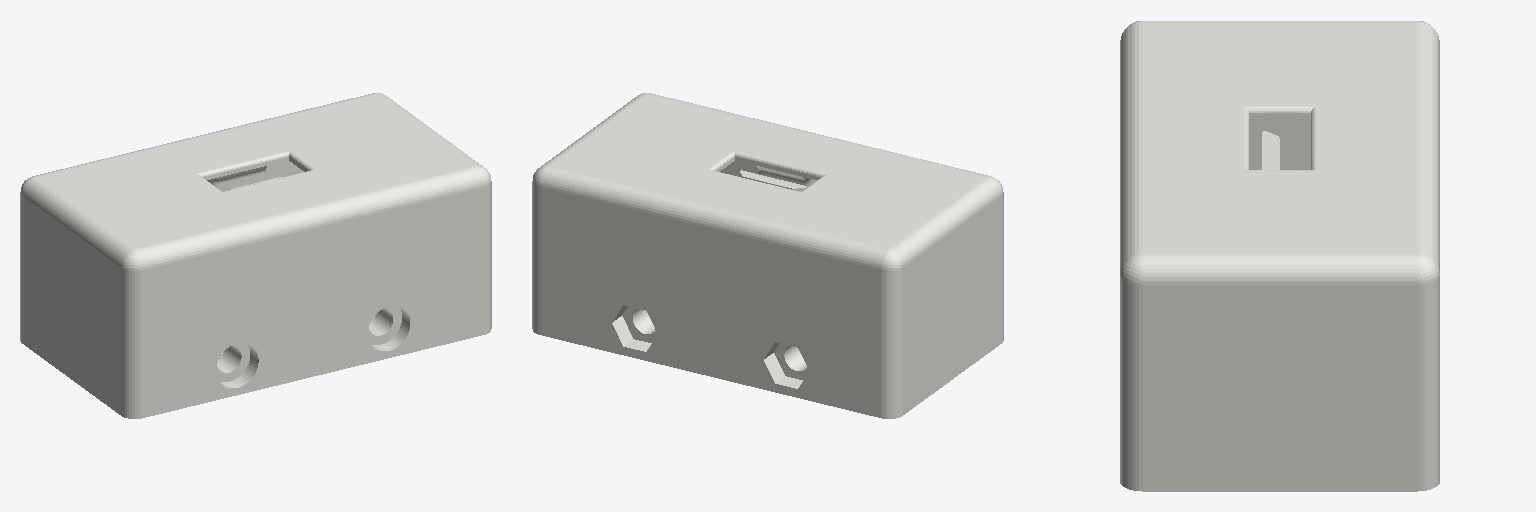
robot.urdf — cb_usb_slot:
<?xml version="1.0"?>
<!-- ContactBench usb_slot. Generated by FoundationTouch tools/contactbench/usb_tasks.py (A12) -->
<robot name="cb_usb_slot">
  <material name="c"><color rgba="0.92 0.92 0.90 1.0"/></material>
  <link name="receptive">
    <visual><origin xyz="0 0 0" rpy="0 0 0"/><geometry><mesh filename="usb_slot.obj" scale="1 1 1"/></geometry><material name="c"/></visual>
    <collision><origin xyz="0 0 0" rpy="0 0 0"/><geometry><mesh filename="coll_00.obj" scale="1 1 1"/></geometry></collision>
    <collision><origin xyz="0 0 0" rpy="0 0 0"/><geometry><mesh filename="coll_01.obj" scale="1 1 1"/></geometry></collision>
    <collision><origin xyz="0 0 0" rpy="0 0 0"/><geometry><mesh filename="coll_02.obj" scale="1 1 1"/></geometry></collision>
    <collision><origin xyz="0 0 0" rpy="0 0 0"/><geometry><mesh filename="coll_03.obj" scale="1 1 1"/></geometry></collision>
    <collision><origin xyz="0 0 0" rpy="0 0 0"/><geometry><mesh filename="coll_04.obj" scale="1 1 1"/></geometry></collision>
    <collision><origin xyz="0 0 0" rpy="0 0 0"/><geometry><mesh filename="coll_05.obj" scale="1 1 1"/></geometry></collision>
    <collision><origin xyz="0 0 0" rpy="0 0 0"/><geometry><mesh filename="coll_06.obj" scale="1 1 1"/></geometry></collision>
    <collision><origin xyz="0 0 0" rpy="0 0 0"/><geometry><mesh filename="coll_07.obj" scale="1 1 1"/></geometry></collision>
    <collision><origin xyz="0 0 0" rpy="0 0 0"/><geometry><mesh filename="coll_08.obj" scale="1 1 1"/></geometry></collision>
    <collision><origin xyz="0 0 0" rpy="0 0 0"/><geometry><mesh filename="coll_09.obj" scale="1 1 1"/></geometry></collision>
    <collision><origin xyz="0 0 0" rpy="0 0 0"/><geometry><mesh filename="coll_10.obj" scale="1 1 1"/></geometry></collision>
  </link>
</robot>

--- What the picture shows (computed from the rendered views, not written in the file) ---
Views: 3 orthographic renders of the robot side by side, from view 1: azimuth 30°, elevation 25°; view 2: azimuth 150°, elevation 25°; view 3: azimuth 270°, elevation 25°.
Model cb_usb_slot with 1 links and 0 joints (none), rooted at receptive, posed every joint at zero.
Visible links, largest first — view 1: receptive; view 2: receptive; view 3: receptive.
Boxes of the visible links, box(x1,y1,x2,y2) form: receptive: box(20, 93, 491, 418); receptive: box(532, 93, 1003, 418); receptive: box(1120, 21, 1439, 491).
Bounding box of the posed robot: 0.052 × 0.028 × 0.022 m (x, y, z).
1 mesh visuals loaded from 1 distinct referenced files (1 OBJ).
